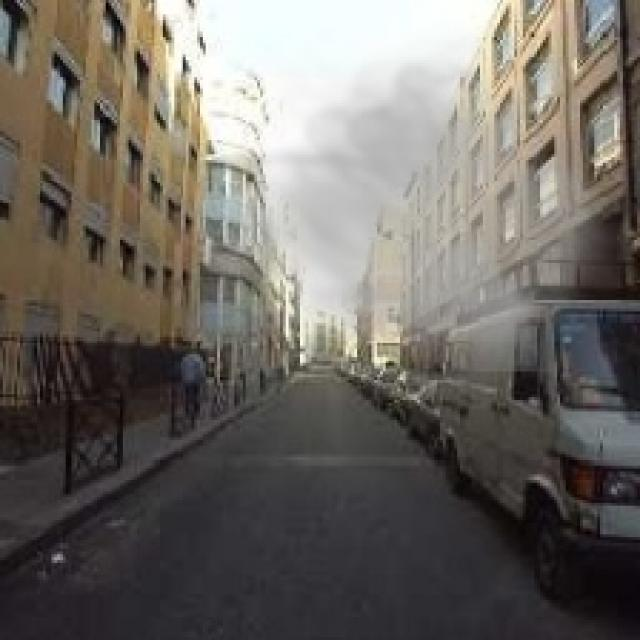smoke: (220, 20, 634, 371)
